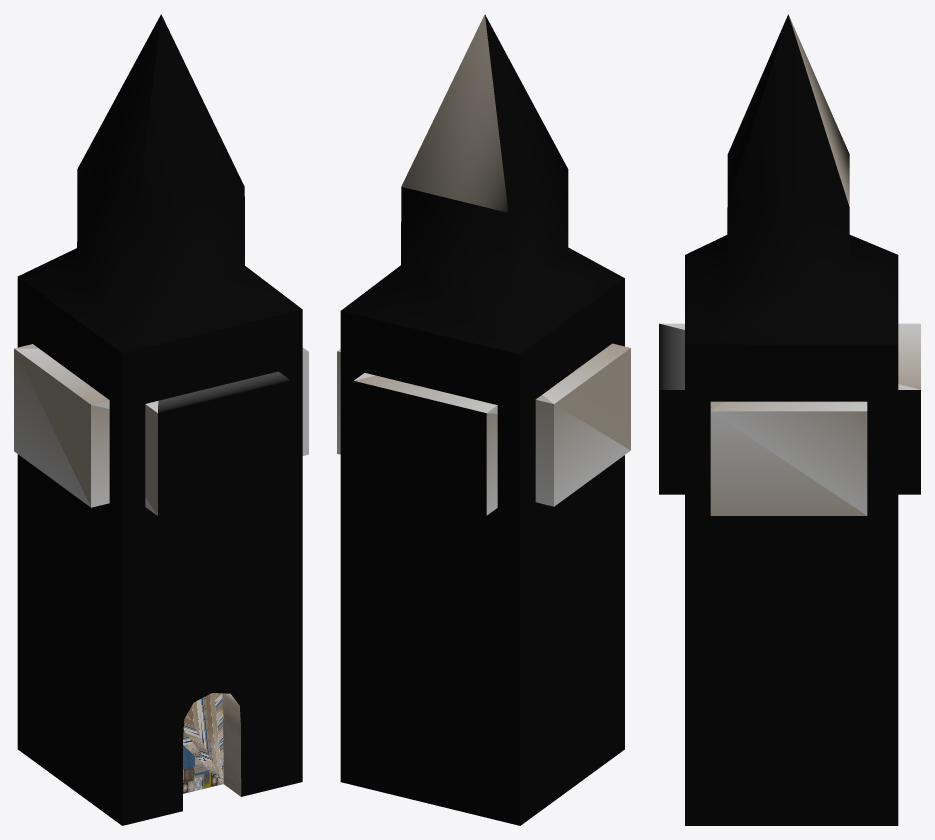
Rendered from ClockTower_col.fbx.
The picture shows the model from 3 angles, left to right: view 1: azimuth 30°, elevation 25°; view 2: azimuth 150°, elevation 25°; view 3: azimuth 270°, elevation 25°; orthographic projection. The views are drawn at different scales.
Visible parts, largest first — view 1: group3; view 2: group3; view 3: group3.
Boxes of the visible parts, left/top/right/bottom form: group3: left=14, top=14, right=308, bottom=825; group3: left=337, top=14, right=630, bottom=825; group3: left=659, top=14, right=920, bottom=825.
Bounding box in the file's own units: 3.24 × 10.69 × 3.31.
